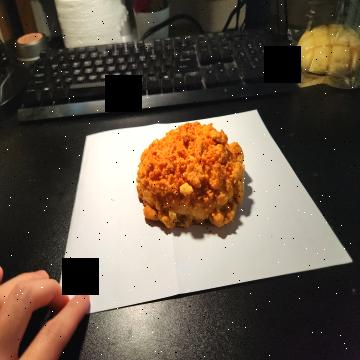soboru_bread: (135, 122, 245, 236)
